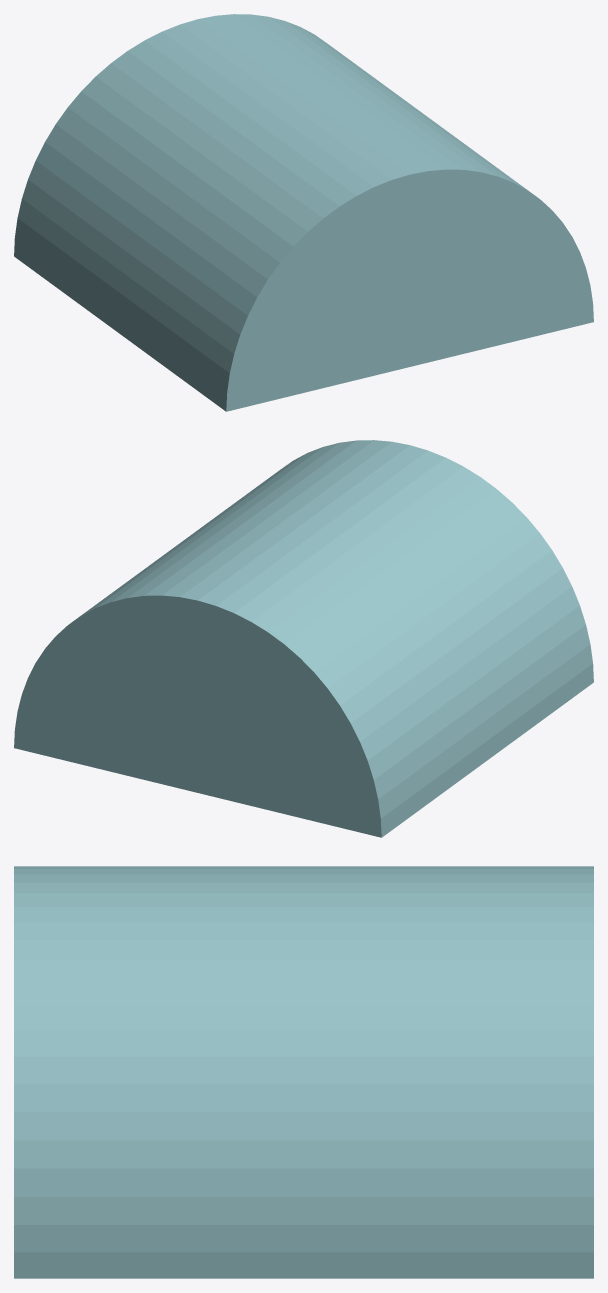
The model's file is halfdome.glb.
The picture shows the model from 3 angles, top to bottom: view 1: azimuth 30°, elevation 25°; view 2: azimuth 150°, elevation 25°; view 3: azimuth 270°, elevation 25°; orthographic projection. The views are drawn at different scales.
Parts seen in each view (by area): view 1: Mesh_Mesh_head_geo.001_lambert2SG.001; view 2: Mesh_Mesh_head_geo.001_lambert2SG.001; view 3: Mesh_Mesh_head_geo.001_lambert2SG.001.
Part boxes in pixels (x1,y1,x2,y2): Mesh_Mesh_head_geo.001_lambert2SG.001: (14,14,593,411); Mesh_Mesh_head_geo.001_lambert2SG.001: (14,440,593,837); Mesh_Mesh_head_geo.001_lambert2SG.001: (14,866,593,1278).
Bounding box in the file's own units: 20 × 10 × 20.
